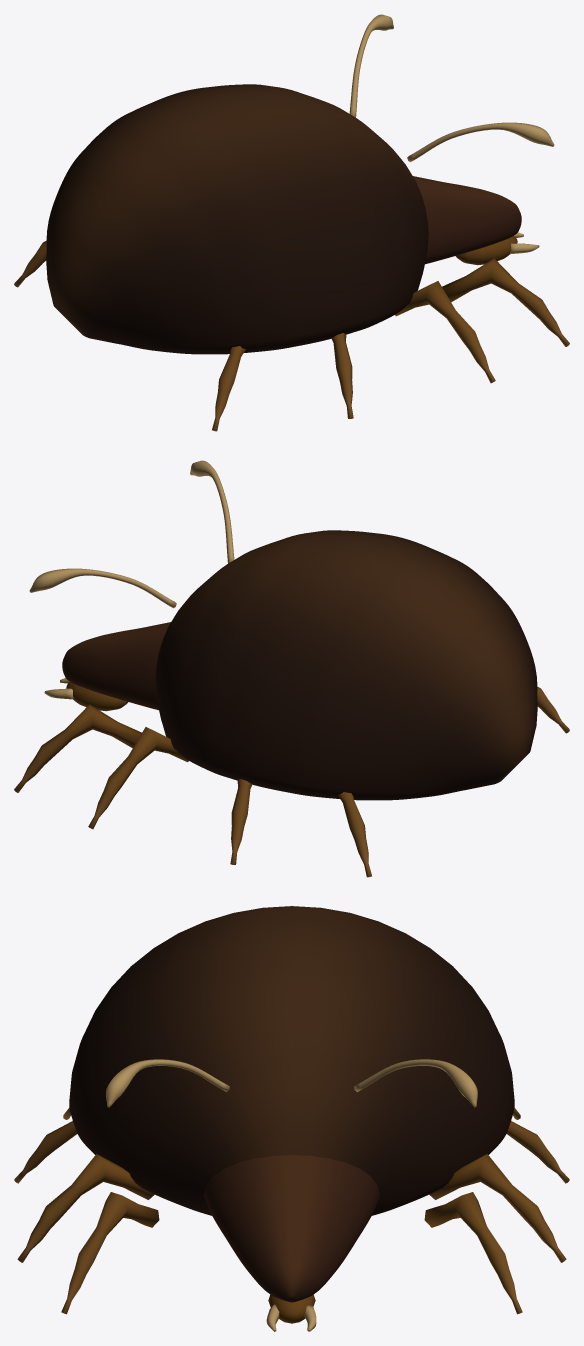
The model's file is mite.glb.
3 renders of one model, top to bottom at view 1: azimuth 30°, elevation 25°; view 2: azimuth 150°, elevation 25°; view 3: azimuth 270°, elevation 25°, orthographic. The views are drawn at different scales.
Visible parts, largest first — view 1: mite; view 2: mite; view 3: mite.
Part boxes in pixels (box(x1,y1,x2,y2)): mite: box(14, 14, 569, 431); mite: box(14, 460, 569, 877); mite: box(14, 906, 569, 1331).
Size of the model in its own units: 1.1 by 0.4986 by 0.9858.
